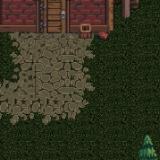Obstacle: (0, 0, 159, 66)
